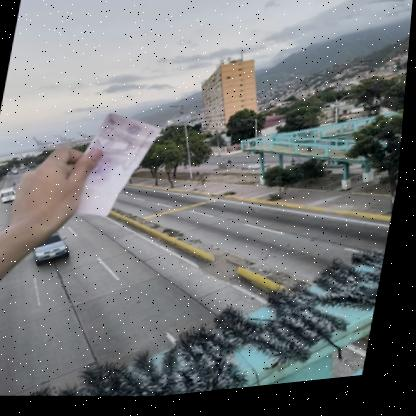one_hundred-back-vef: (72, 108, 167, 226)
